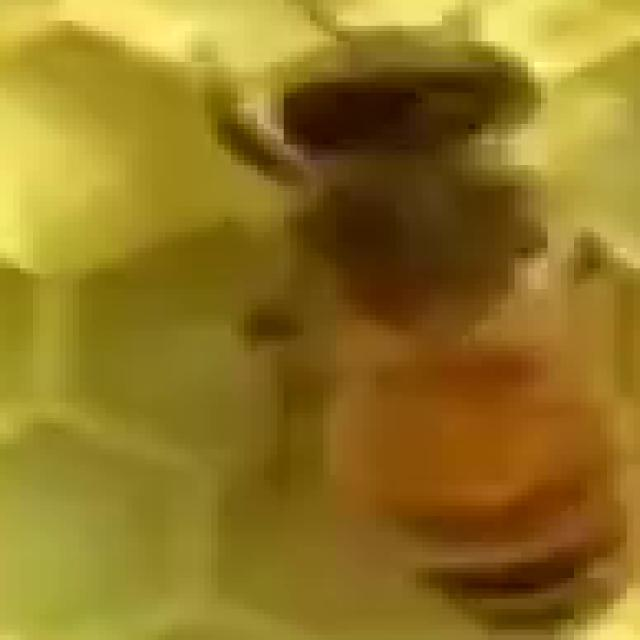honeybee: (170, 13, 640, 640)
